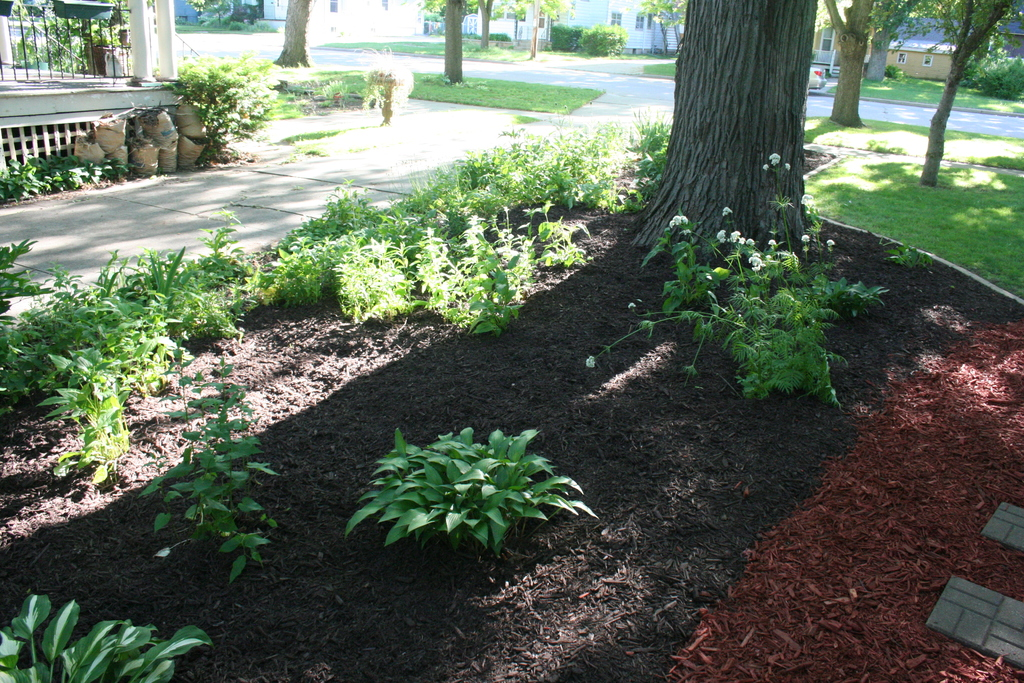Tree: (625, 0, 818, 263), (865, 0, 1024, 187), (817, 0, 925, 124), (183, 0, 312, 66), (514, 0, 573, 57), (643, 0, 685, 51), (401, 0, 479, 21), (443, 0, 462, 84), (480, 0, 495, 47)
